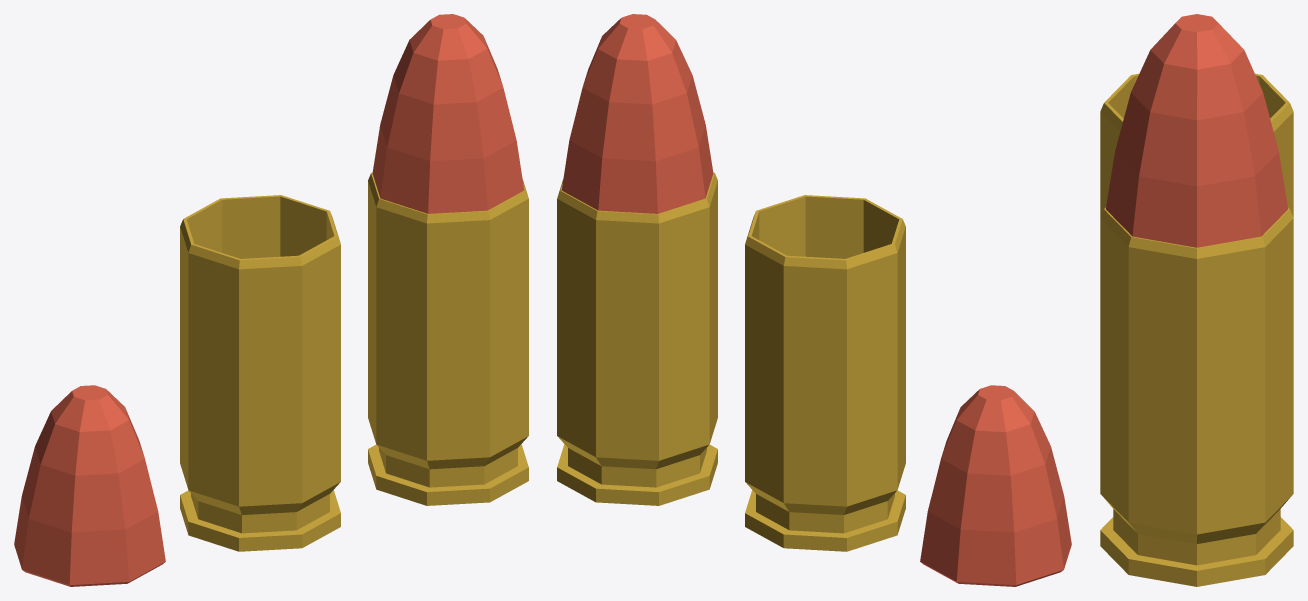
3 views of the same model, side by side, from view 1: azimuth 30°, elevation 25°; view 2: azimuth 150°, elevation 25°; view 3: azimuth 270°, elevation 25° (orthographic). The views are drawn at different scales.
Parts seen in each view (by area): view 1: 9mm_bullet, BODY, HEAD; view 2: 9mm_bullet, BODY, HEAD; view 3: 9mm_bullet, BODY.
Part boxes in pixels (x1=…): 9mm_bullet: x1=368, y1=14, x2=528, y2=505; BODY: x1=180, y1=195, x2=340, y2=551; HEAD: x1=14, y1=385, x2=165, y2=586; 9mm_bullet: x1=557, y1=14, x2=717, y2=505; BODY: x1=745, y1=195, x2=905, y2=551; HEAD: x1=920, y1=385, x2=1071, y2=586; 9mm_bullet: x1=1100, y1=14, x2=1293, y2=586; BODY: x1=1100, y1=73, x2=1293, y2=217.
Bounding box in the file's own units: 485 × 419 × 140.
